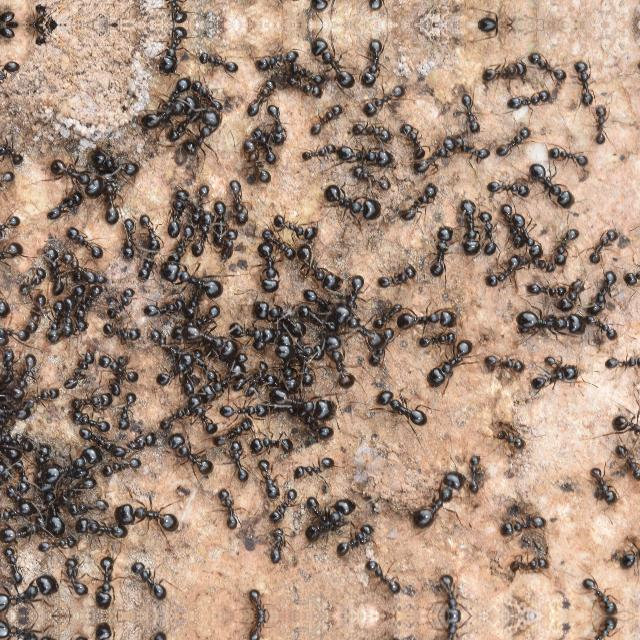Messor: (186, 72, 250, 142), (402, 464, 466, 534), (506, 302, 590, 346), (154, 257, 240, 299), (172, 320, 248, 366), (521, 151, 581, 207), (326, 178, 390, 226), (304, 36, 362, 88), (248, 292, 306, 341), (373, 388, 437, 432), (304, 496, 371, 538), (250, 232, 290, 300), (80, 174, 132, 226), (295, 240, 349, 288), (112, 501, 180, 539), (427, 340, 478, 390), (138, 78, 186, 130), (180, 116, 232, 162), (314, 335, 356, 391), (0, 570, 56, 610), (258, 222, 304, 270), (346, 82, 406, 118), (66, 510, 130, 542), (166, 432, 210, 478), (577, 573, 625, 615), (283, 452, 349, 482), (401, 181, 449, 221), (154, 25, 192, 75), (416, 131, 459, 175), (71, 422, 131, 453), (46, 146, 90, 188), (526, 44, 572, 84), (86, 142, 140, 176), (184, 388, 222, 436), (201, 48, 251, 84), (489, 412, 525, 461), (18, 381, 62, 421), (364, 558, 404, 602), (476, 348, 534, 378), (394, 300, 456, 328), (480, 172, 534, 204), (294, 410, 351, 440), (353, 160, 395, 200), (338, 139, 394, 169), (332, 515, 374, 555), (453, 195, 481, 255), (130, 556, 168, 600), (586, 452, 618, 504), (568, 56, 600, 108), (516, 210, 548, 262), (190, 346, 226, 392), (300, 281, 340, 321), (429, 572, 465, 616), (283, 70, 329, 104), (268, 209, 320, 239), (459, 450, 491, 498), (34, 492, 76, 528), (212, 484, 242, 534), (474, 205, 502, 258), (243, 121, 279, 162), (42, 186, 80, 224), (4, 443, 34, 491), (238, 138, 272, 180), (42, 452, 84, 486), (580, 312, 626, 343), (302, 100, 340, 136), (268, 484, 304, 522), (96, 548, 118, 610), (148, 328, 182, 368), (98, 321, 146, 349), (506, 86, 562, 110), (216, 395, 270, 419), (477, 60, 531, 84), (1, 484, 41, 516), (548, 138, 588, 170), (298, 389, 342, 418), (458, 88, 487, 132), (61, 232, 106, 260), (337, 272, 367, 314), (590, 266, 616, 314), (252, 457, 282, 498), (62, 250, 98, 284), (501, 512, 552, 536), (242, 78, 280, 110), (96, 353, 136, 383), (246, 431, 296, 455), (167, 106, 200, 142), (518, 278, 572, 300), (368, 328, 397, 368), (165, 191, 189, 239), (577, 616, 625, 640), (208, 416, 252, 442), (276, 340, 298, 392), (157, 356, 195, 386), (528, 368, 584, 388), (432, 224, 452, 280), (138, 201, 162, 247), (32, 531, 78, 555), (614, 441, 640, 483), (0, 621, 56, 640), (173, 217, 197, 261), (488, 253, 522, 284), (114, 214, 140, 254), (63, 346, 89, 386), (188, 302, 228, 328), (375, 264, 415, 290), (499, 128, 536, 156), (609, 407, 639, 441), (361, 44, 385, 86), (266, 386, 308, 410), (347, 316, 383, 344), (50, 292, 70, 342), (101, 457, 151, 477), (592, 94, 612, 144), (292, 59, 330, 85), (602, 350, 640, 376), (228, 180, 250, 224), (229, 436, 251, 480), (266, 104, 290, 144), (116, 383, 136, 431), (410, 328, 458, 348), (1, 549, 26, 587), (78, 283, 104, 319), (459, 136, 495, 162), (302, 491, 332, 522), (252, 47, 298, 67), (111, 282, 135, 320), (593, 226, 617, 264), (429, 615, 465, 640), (402, 128, 430, 160), (188, 186, 210, 226), (142, 299, 186, 319), (44, 244, 64, 288), (266, 527, 288, 567), (511, 550, 551, 572), (154, 0, 192, 23), (66, 555, 90, 591), (62, 480, 98, 504), (0, 128, 16, 180), (504, 202, 522, 248), (75, 410, 111, 432), (20, 266, 46, 296), (68, 391, 105, 412), (558, 222, 574, 270), (30, 294, 48, 336), (110, 349, 126, 395), (66, 498, 112, 514), (1, 49, 20, 87), (209, 200, 227, 240), (0, 236, 24, 266), (302, 140, 334, 162), (217, 227, 239, 259), (563, 276, 585, 308), (245, 588, 272, 614), (304, 0, 362, 12), (298, 345, 316, 383), (160, 406, 186, 432), (61, 292, 75, 340), (132, 426, 156, 454), (28, 24, 58, 46), (28, 2, 58, 24), (0, 431, 36, 449), (245, 616, 272, 640), (19, 350, 36, 388), (370, 302, 402, 322), (0, 324, 34, 342), (2, 524, 40, 540), (3, 164, 20, 198), (138, 253, 156, 285), (615, 546, 639, 570), (24, 439, 50, 461), (6, 376, 27, 402), (0, 210, 24, 232), (472, 24, 516, 36), (472, 12, 516, 24), (2, 346, 16, 382), (2, 500, 26, 520), (625, 265, 639, 297), (544, 354, 566, 374), (364, 629, 403, 640), (96, 621, 117, 640), (130, 631, 167, 640), (0, 295, 12, 315), (0, 459, 8, 480), (3, 24, 15, 36), (3, 12, 15, 24)
